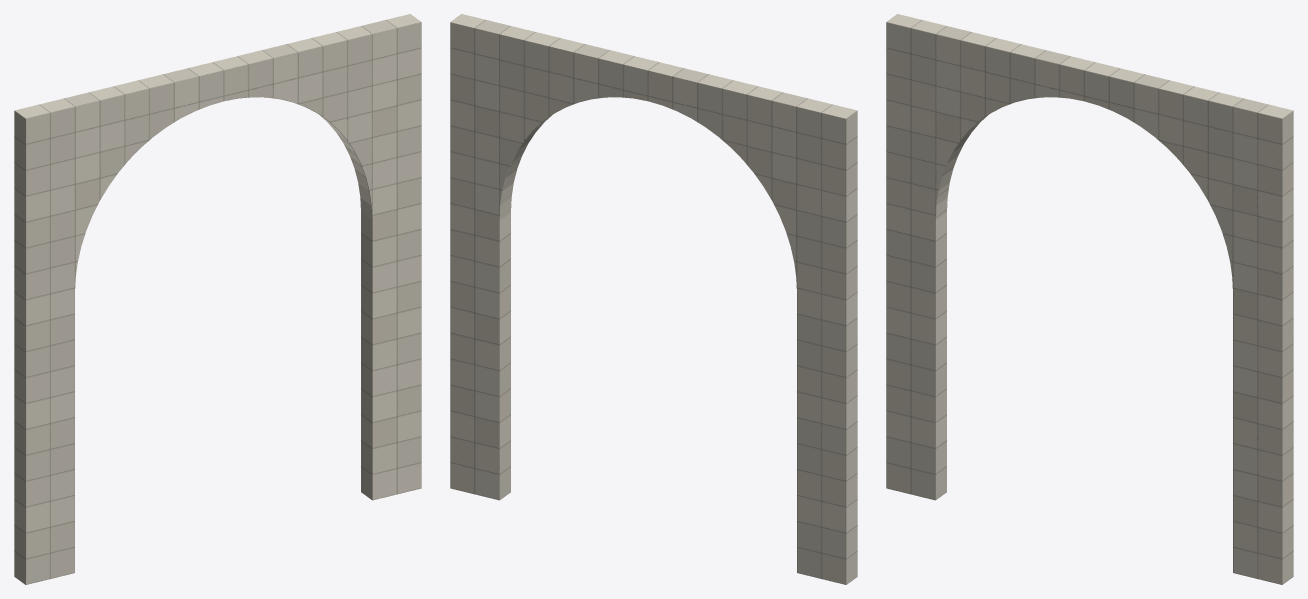
File: MOD_09_Archway_Wide.glb
3 renders of one model, left to right at view 1: azimuth 30°, elevation 25°; view 2: azimuth 150°, elevation 25°; view 3: azimuth 330°, elevation 25°, orthographic.
Visible parts, largest first — view 1: MOD_09_Archway_Wide_Export; view 2: MOD_09_Archway_Wide_Export; view 3: MOD_09_Archway_Wide_Export.
Boxes of the visible parts, <box> form: MOD_09_Archway_Wide_Export: <box>14,14,421,584</box>; MOD_09_Archway_Wide_Export: <box>450,14,857,584</box>; MOD_09_Archway_Wide_Export: <box>886,14,1293,584</box>.
Size of the model in its own units: 4 by 4.5 by 0.2.
1 material, 1 textured.
